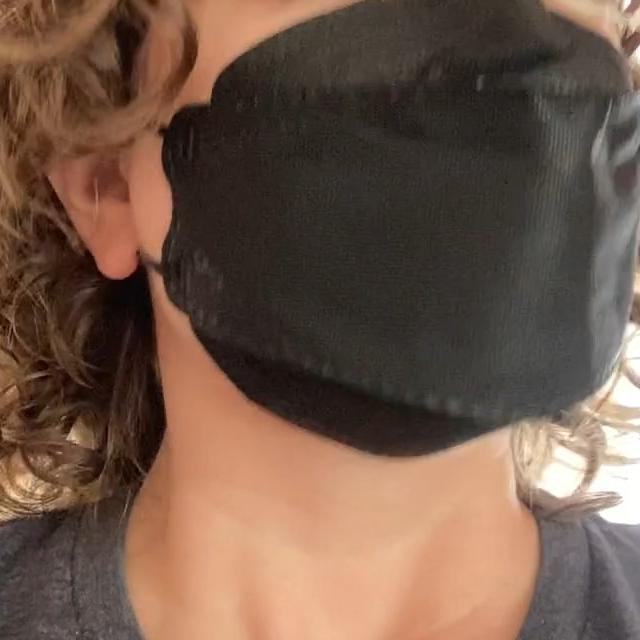Mask: (77, 0, 640, 452)
NO-Safety Vest: (0, 496, 640, 640)
Person: (0, 0, 640, 640)
